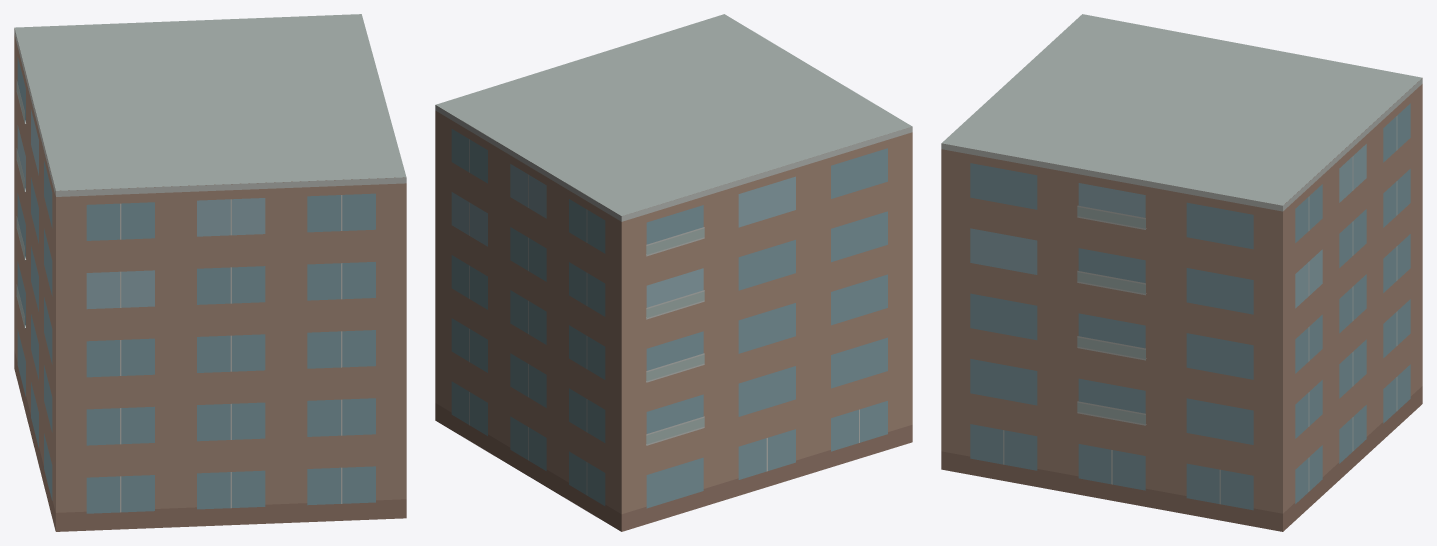
File: survey-upis-32779597.glb
3 views of the same model, side by side, from view 1: azimuth 30°, elevation 25°; view 2: azimuth 150°, elevation 25°; view 3: azimuth 270°, elevation 25° (orthographic). The views are drawn at different scales.
Visible parts, largest first — view 1: survey-upis-32779597.tmp; view 2: survey-upis-32779597.tmp; view 3: survey-upis-32779597.tmp.
Boxes of the visible parts, <box> form: survey-upis-32779597.tmp: <box>14,14,406,531</box>; survey-upis-32779597.tmp: <box>435,14,912,531</box>; survey-upis-32779597.tmp: <box>941,14,1422,531</box>.
Size of the model in its own units: 17.15 by 13.6 by 18.19.
